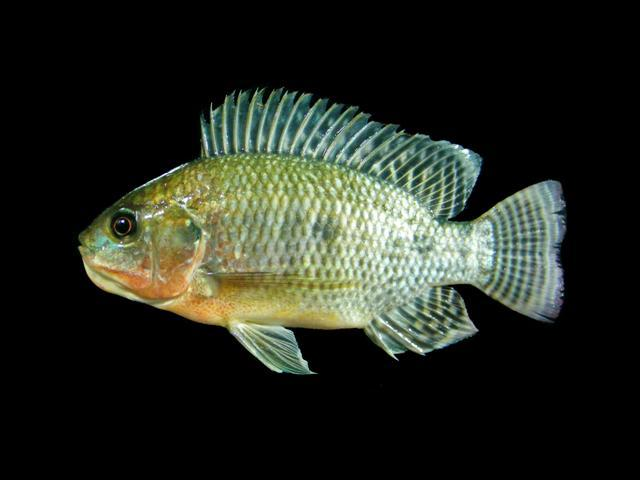Mulut: (56, 203, 120, 318)
Sirip Anal: (351, 276, 487, 372)
Sirip Dada: (182, 248, 374, 306)
Sirip Ekor: (474, 170, 580, 340)
Sirip Perut: (220, 312, 330, 386)
Sirip Punggung: (196, 76, 492, 226)
